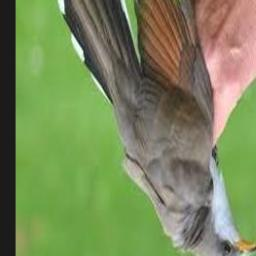Cuckoo: (55, 0, 256, 256)
